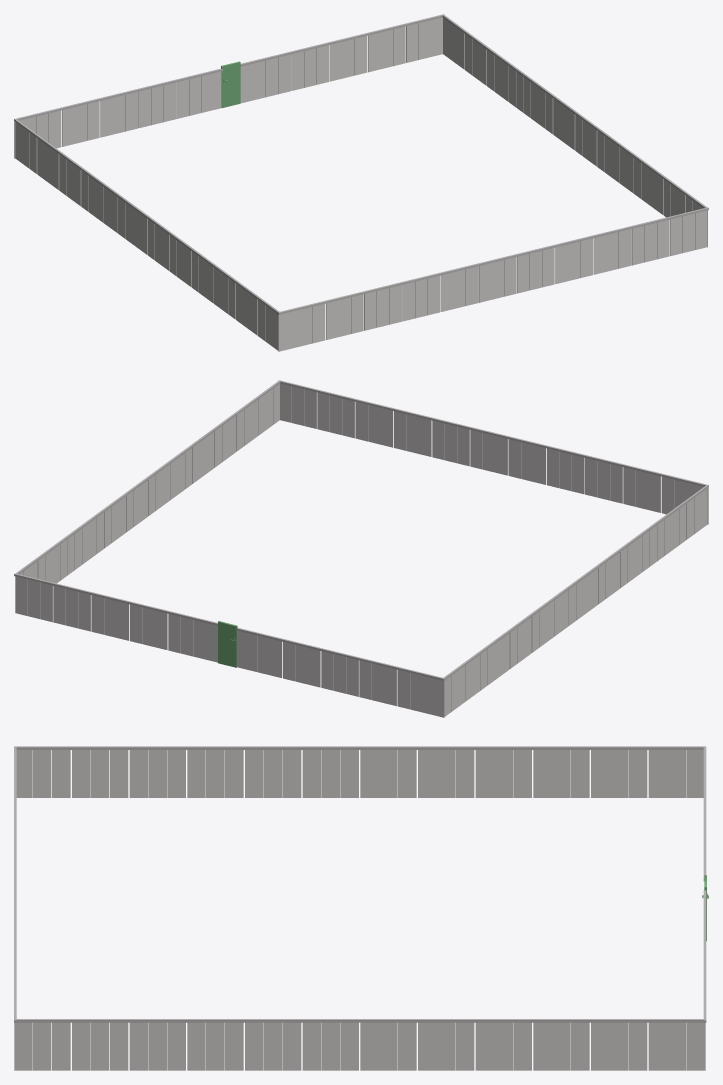
File: Fence 2.fbx
3 renders of one model, top to bottom at view 1: azimuth 30°, elevation 25°; view 2: azimuth 150°, elevation 25°; view 3: azimuth 270°, elevation 25°, orthographic. The views are drawn at different scales.
Visible parts, largest first — view 1: fence_big__10_; view 2: fence_big__10_; view 3: fence_big__10_.
Part boxes in pixels (box(x1,y1,x2,y2)): fence_big__10_: box(14, 14, 708, 351); fence_big__10_: box(14, 380, 708, 717); fence_big__10_: box(14, 746, 708, 1070).
Size of the model in its own units: 2305 by 213 by 2470.
